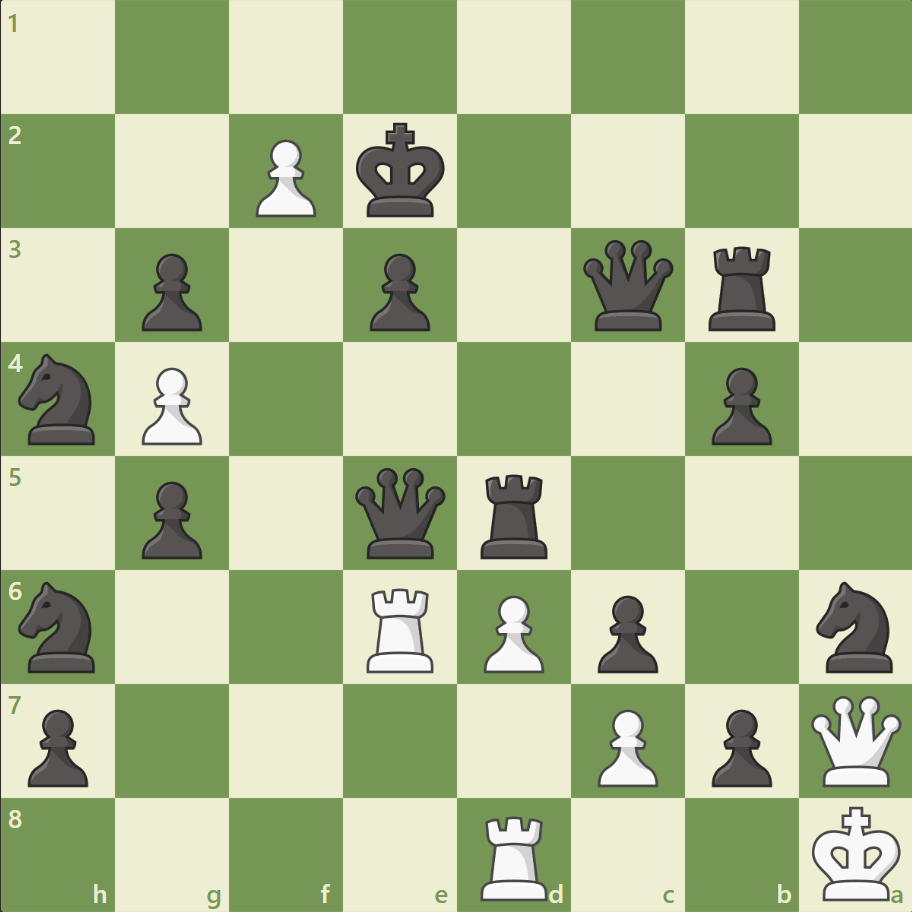K: (806, 798, 906, 906)
P: (474, 586, 549, 677), (133, 359, 208, 450), (247, 132, 322, 223), (588, 700, 662, 791)
Q: (805, 690, 904, 789)
R: (473, 806, 556, 904), (360, 579, 442, 676)
k: (351, 117, 451, 225)
n: (806, 575, 903, 677), (11, 575, 108, 677), (11, 348, 108, 450)
p: (701, 700, 776, 791), (20, 700, 95, 791), (133, 473, 208, 564), (701, 359, 776, 450), (133, 246, 208, 337), (588, 586, 662, 677), (361, 246, 435, 337)
q: (351, 463, 450, 562), (578, 236, 677, 335)
r: (473, 466, 556, 563), (700, 239, 783, 336)
